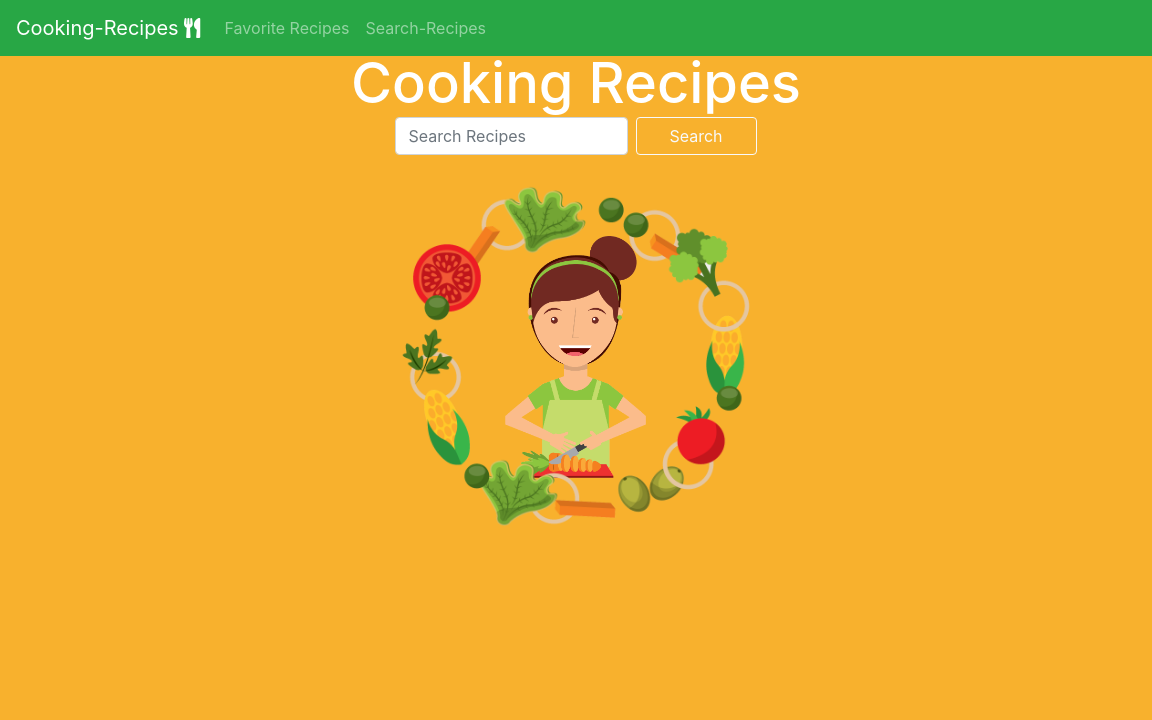
Test: should render error empty field formsearch recipes
The image size is (1152, 720).
Click the button with test id "SearchButton" at (696, 136), box [636,117,756,155]
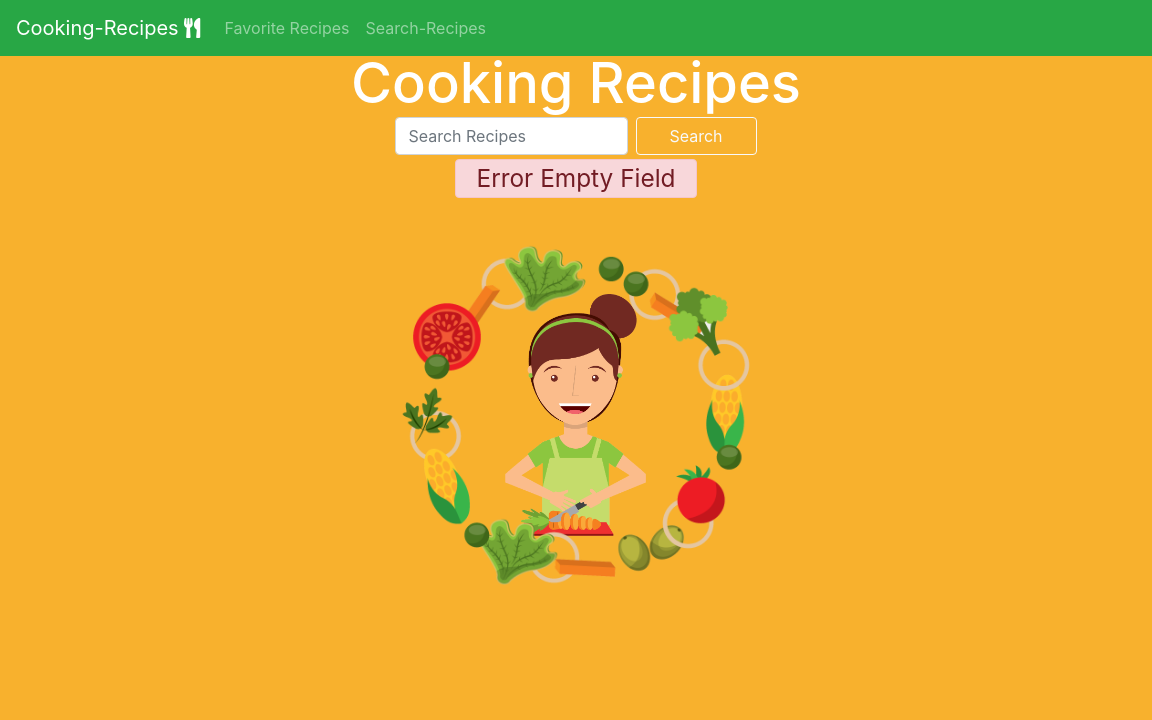
Now the text "Error Empty Field" is shown, box [456,159,696,198]
